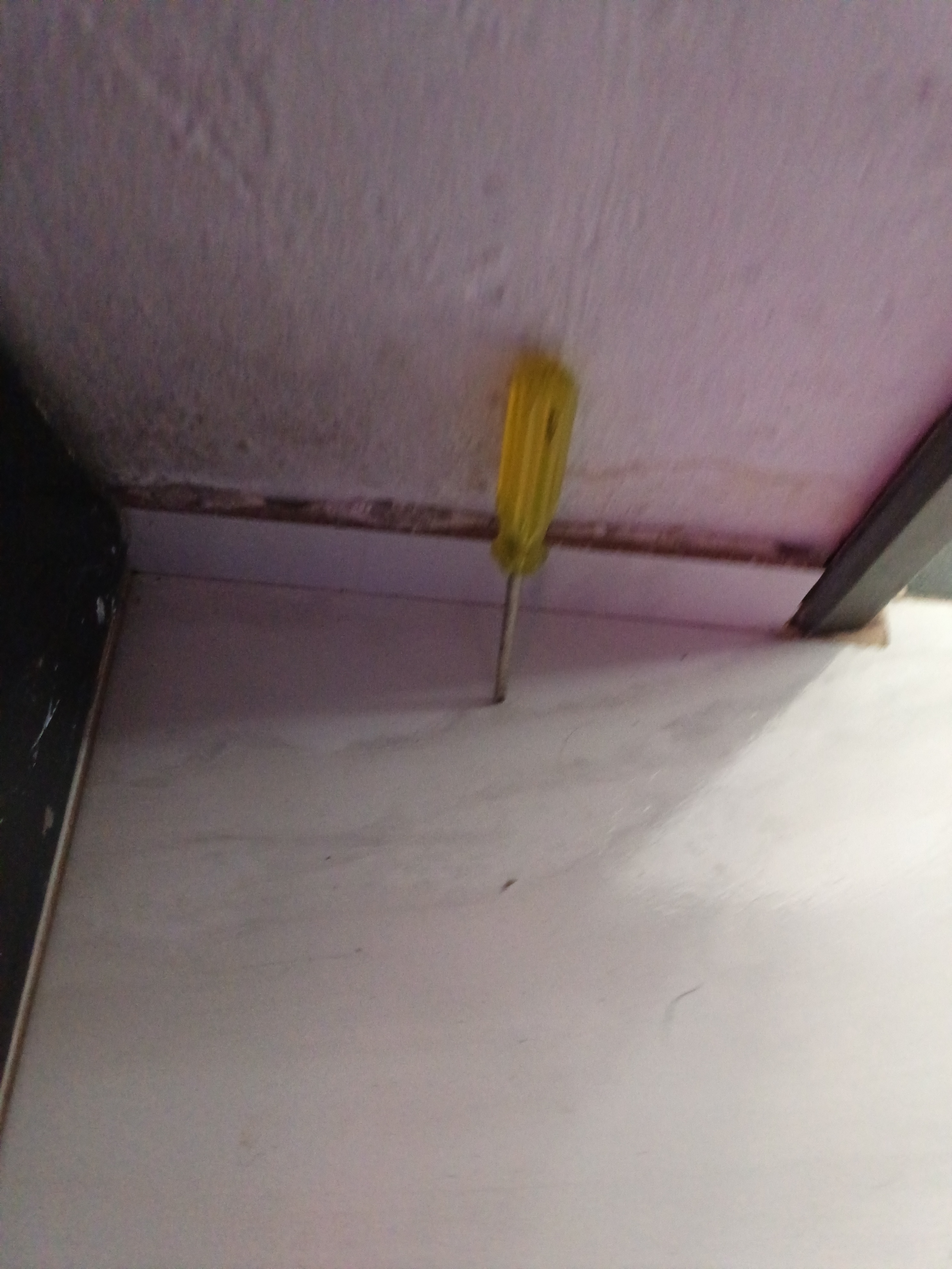Destornillador: (491, 348, 578, 704)
